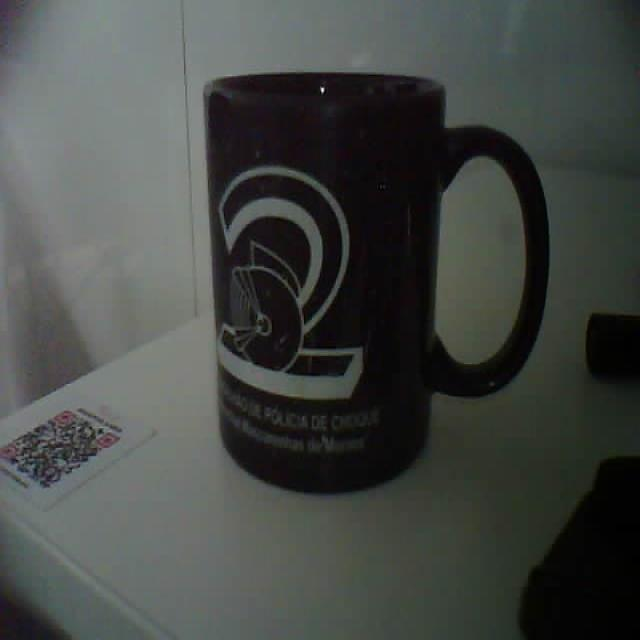caneca: (204, 72, 549, 492)
